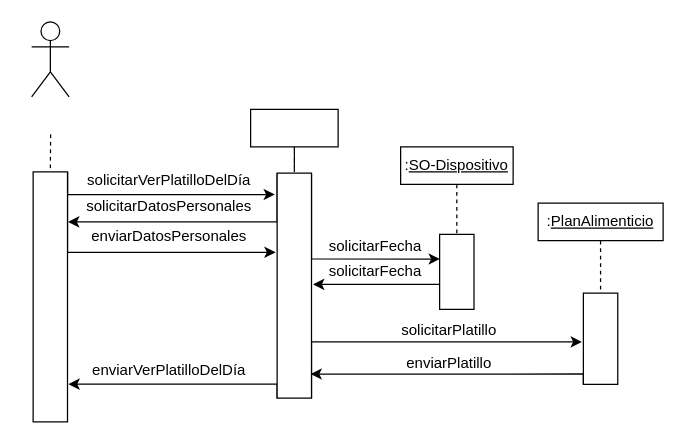
Image size: 686x444. Some labels were removed from this diagram. The shapes that lost their labels are listed below. From the top down, each one's centre as x and y in pixels, then its label:
[49,59]: Paciente
[293,127]: : Sistema
